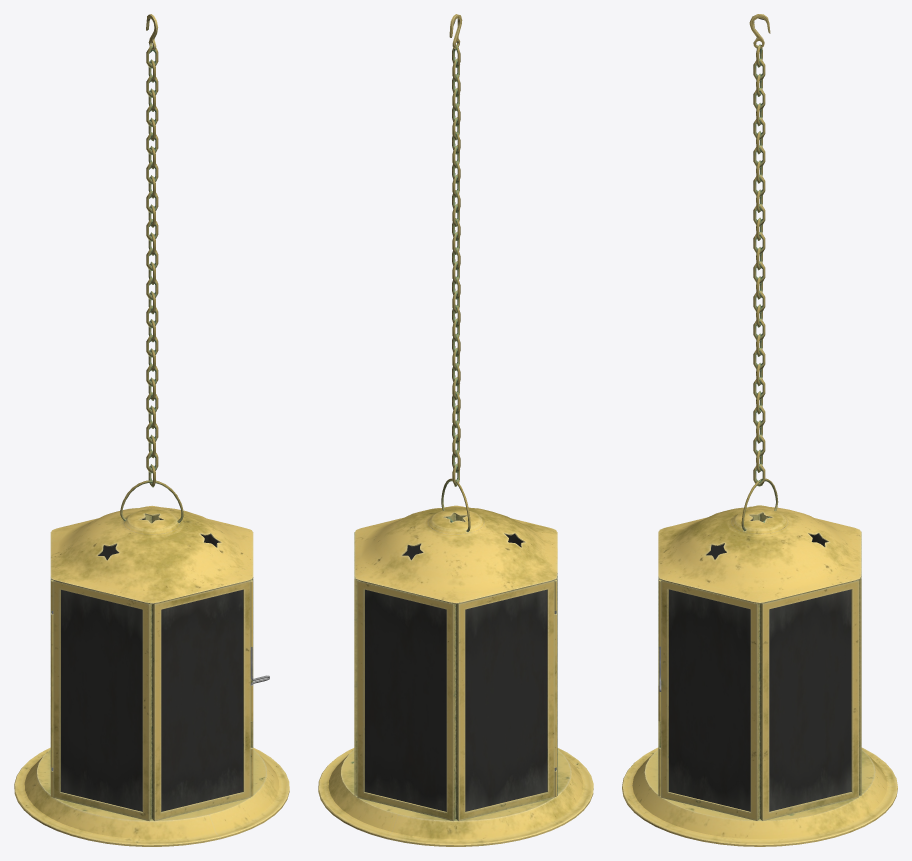
Rendered from brass_diya_lantern_lod1.glb.
3 renders of one model, left to right at view 1: azimuth 30°, elevation 25°; view 2: azimuth 150°, elevation 25°; view 3: azimuth 270°, elevation 25°, orthographic.
Visible parts, largest first — view 1: brass_diya_lantern, brass_diya_lantern_chain; view 2: brass_diya_lantern, brass_diya_lantern_chain; view 3: brass_diya_lantern, brass_diya_lantern_chain.
Part boxes in pixels (box(x1,y1,x2,y2)): brass_diya_lantern: box(14, 505, 289, 846); brass_diya_lantern_chain: box(146, 14, 158, 487); brass_diya_lantern: box(318, 505, 593, 846); brass_diya_lantern_chain: box(449, 14, 462, 486); brass_diya_lantern: box(622, 505, 897, 846); brass_diya_lantern_chain: box(749, 14, 770, 486).
Size of the model in its own units: 0.123 by 0.3807 by 0.123.
Materials: 3 (3 with a texture image).
